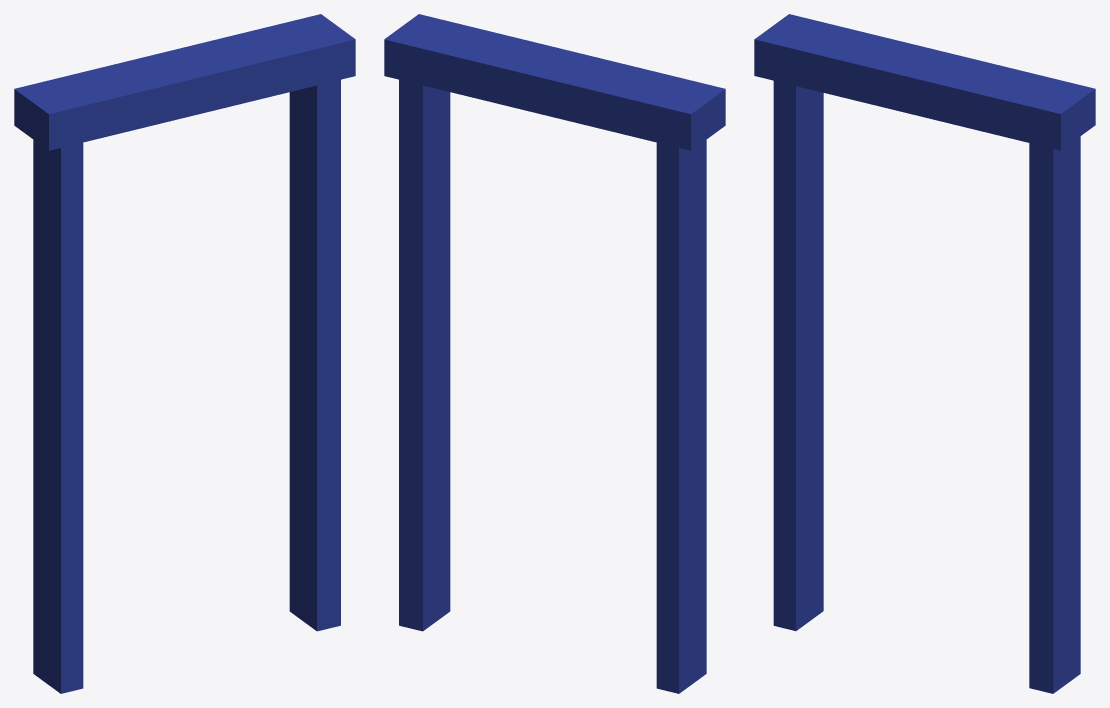
Rendered from DoorSlot.fbx.
3 renders of one model, left to right at view 1: azimuth 30°, elevation 25°; view 2: azimuth 150°, elevation 25°; view 3: azimuth 330°, elevation 25°, orthographic.
Parts seen in each view (by area): view 1: DoorSlot; view 2: DoorSlot; view 3: DoorSlot.
Part boxes in pixels (<box>): DoorSlot: <box>14,14,355,693</box>; DoorSlot: <box>384,14,725,693</box>; DoorSlot: <box>754,14,1095,693</box>.
Size of the model in its own units: 1.23 by 2.24 by 0.2403.
